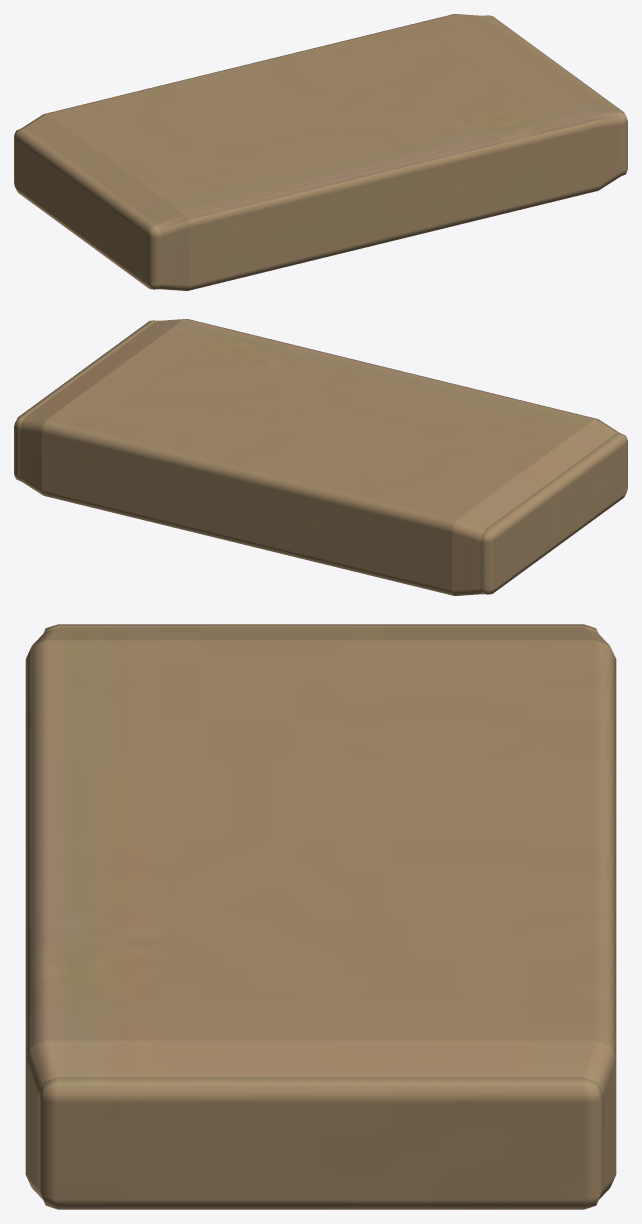
Rendered from sac_sable.glb.
3 views of the same model, one above another, from view 1: azimuth 30°, elevation 25°; view 2: azimuth 150°, elevation 25°; view 3: azimuth 270°, elevation 25° (orthographic). The views are drawn at different scales.
Visible parts, largest first — view 1: Sandbag; view 2: Sandbag; view 3: Sandbag.
Boxes of the visible parts, x1=… form: Sandbag: x1=14, y1=14, x2=627, y2=290; Sandbag: x1=14, y1=319, x2=627, y2=595; Sandbag: x1=25, y1=624, x2=616, y2=1209.
Bounding box in the file's own units: 0.6566 × 0.1 × 0.35.
Materials: 1 (1 with a texture image).
